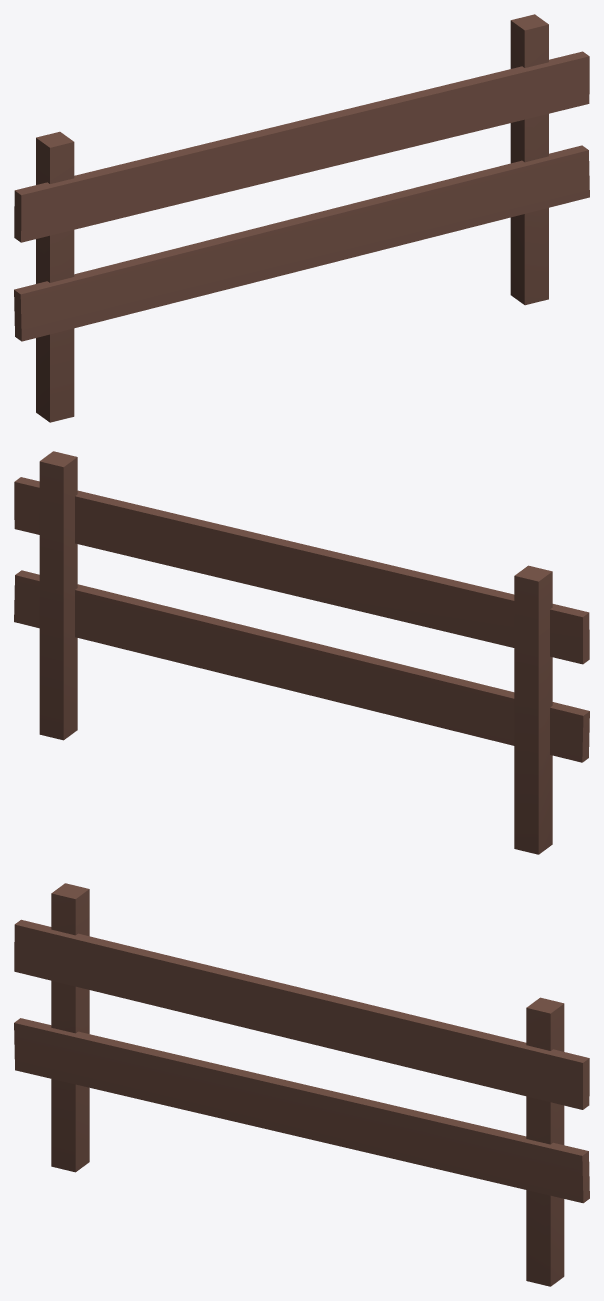
The model's file is fence_001.glb.
The picture shows the model from 3 angles, top to bottom: view 1: azimuth 30°, elevation 25°; view 2: azimuth 150°, elevation 25°; view 3: azimuth 330°, elevation 25°; orthographic projection.
Visible parts, largest first — view 1: fence_001; view 2: fence_001; view 3: fence_001.
Part boxes in pixels (x1,y1,x2,y2): fence_001: [14, 14, 589, 422]; fence_001: [14, 451, 589, 854]; fence_001: [14, 883, 589, 1286].
Bounding box in the file's own units: 2.38 × 1.09 × 0.1428.
1 material, 1 textured.
